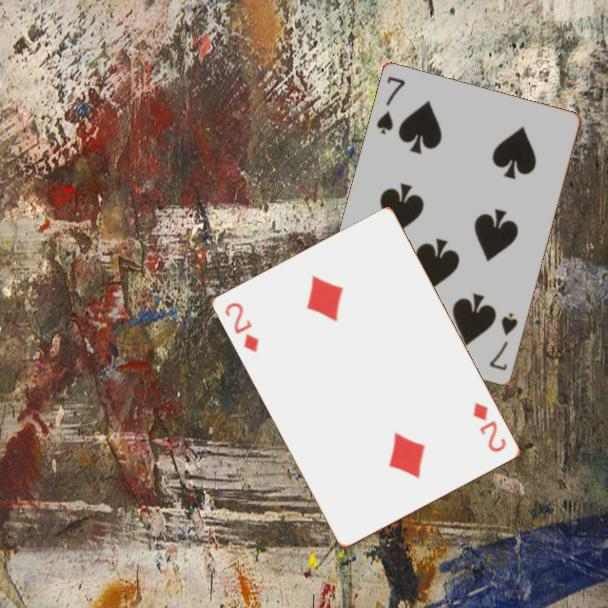d02: (222, 299, 263, 355), (470, 399, 510, 455)
s07: (486, 310, 521, 374), (373, 73, 408, 137)
